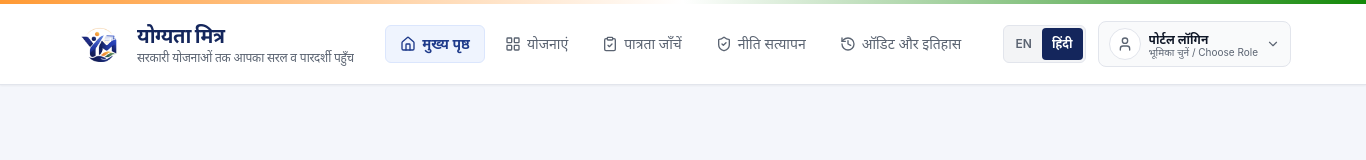
Test case: GlobalNavbar Component › supports language toggle between EN and HI
Click the button with aria-label "switch to english" at (1024, 44), box 1006,28 -> 1042,60
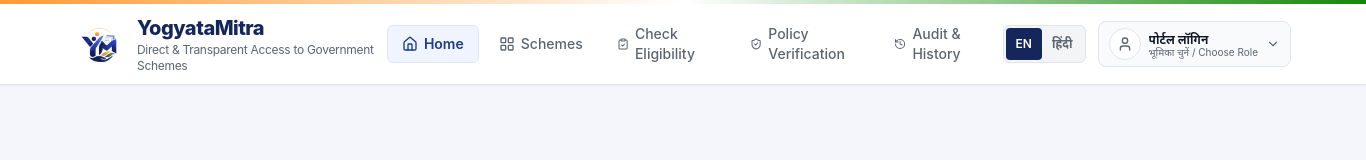
Now the text "YogyataMitra" is shown, box 137,16 -> 264,40
Now the text "Check Eligibility" is shown, box 635,25 -> 695,62
Click the button named "switch to hindi" at (1062, 44), box 1042,28 -> 1083,60
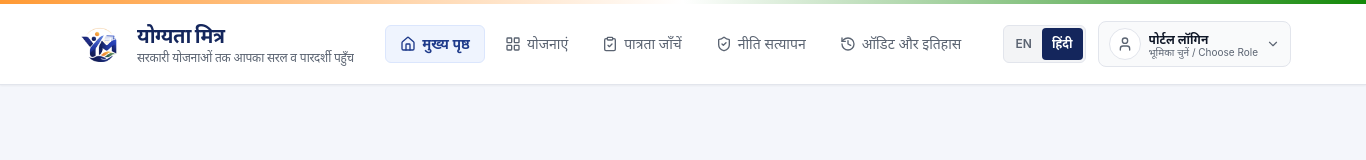
Now the text "योग्यता मित्र" is shown, box 137,24 -> 224,48
